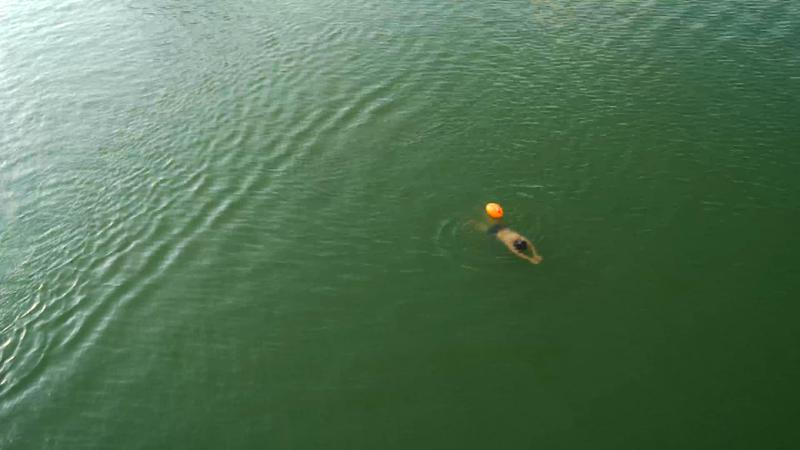swimmers: (462, 207, 543, 267)
